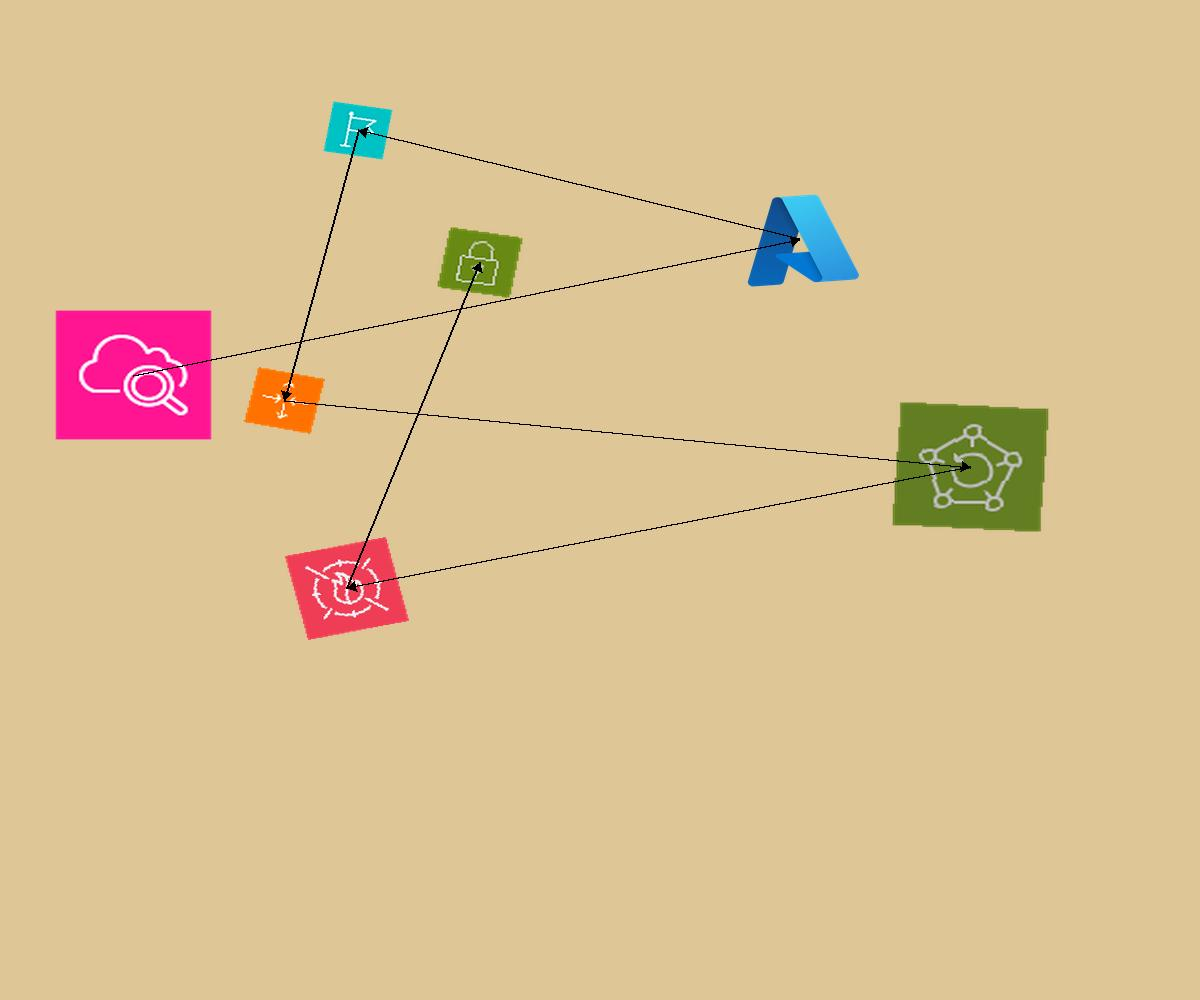AWS-Backup: (891, 401, 1050, 533)
AWS-CloudWatch: (54, 309, 213, 441)
AWS-Public-subnet: (436, 226, 524, 299)
AWS-Region: (323, 101, 393, 160)
AWS-Scaling-group: (244, 367, 325, 434)
AWS-WAF: (285, 537, 409, 640)
Azure_services: (734, 185, 865, 294)
